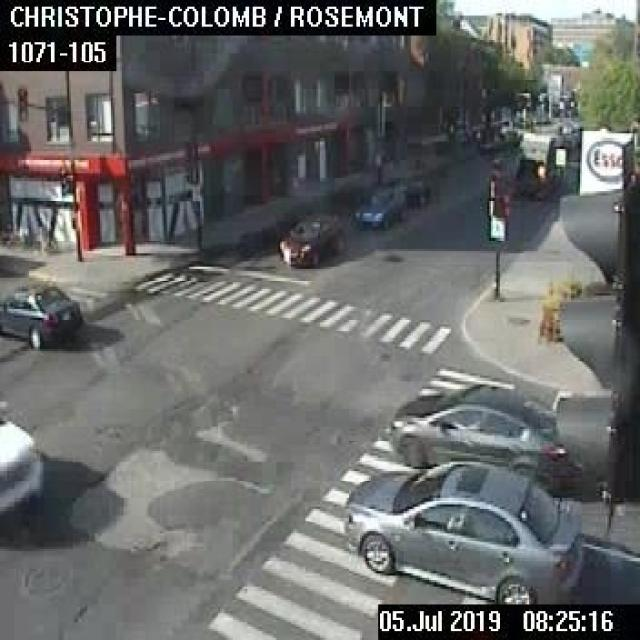vehicle: (342, 460, 584, 602), (390, 382, 556, 472), (0, 395, 45, 515), (0, 282, 80, 349), (278, 212, 342, 266), (512, 129, 564, 195), (354, 182, 406, 229), (392, 174, 429, 206)
